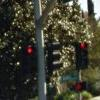Traffic light: (65, 33, 94, 67)
